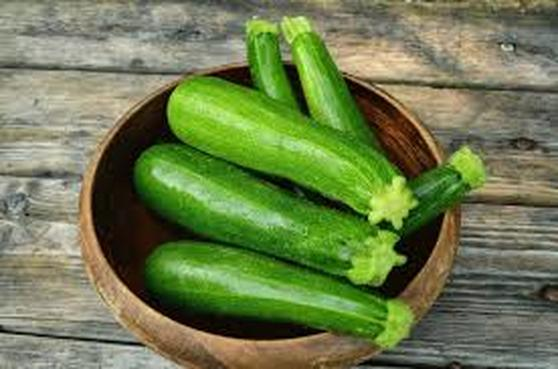zucchini: (171, 72, 415, 222)
